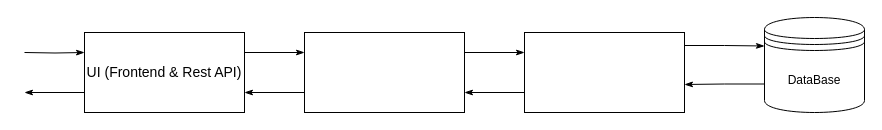
Image size: 882x130. Some labels were removed from this diagram. Here are the shapes that lost their labels. From the top down, the box of each, then its label:
(304, 32, 464, 112): Business Logic
(524, 32, 684, 112): Data Access
